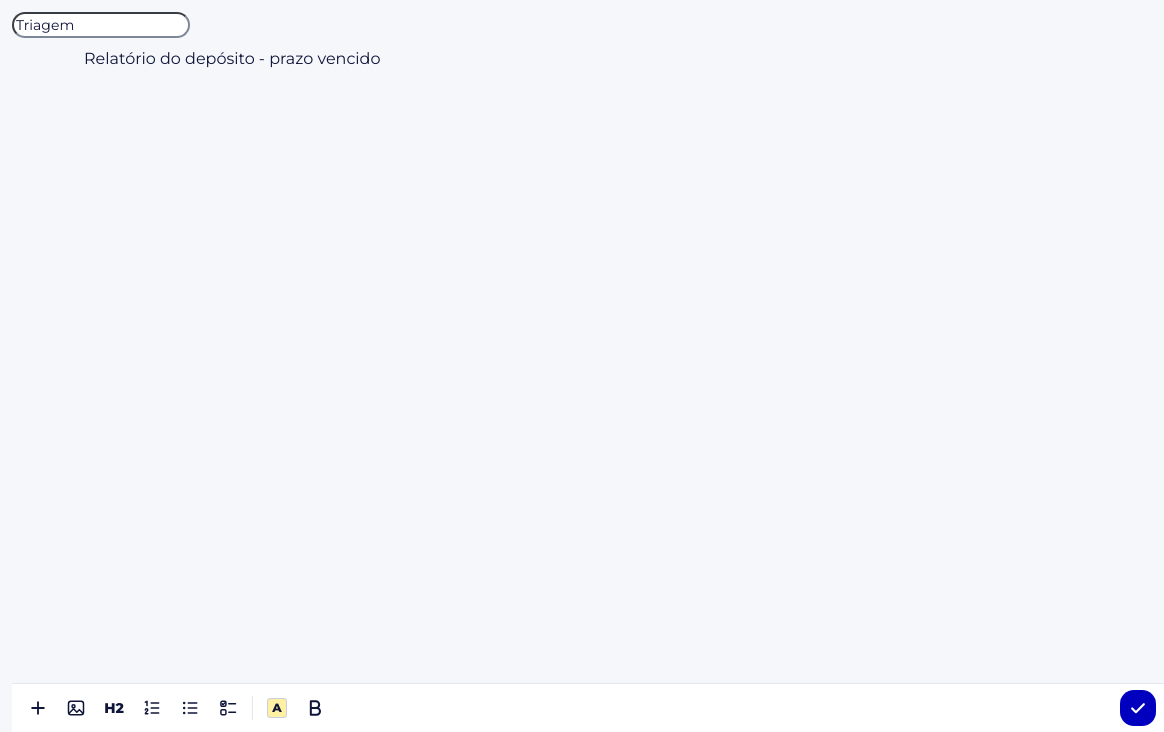
Test case: Concluir tira o foco do editor e a barra sai
Click the button named "Concluir edição" at (1138, 708), box [1120,690,1156,726]
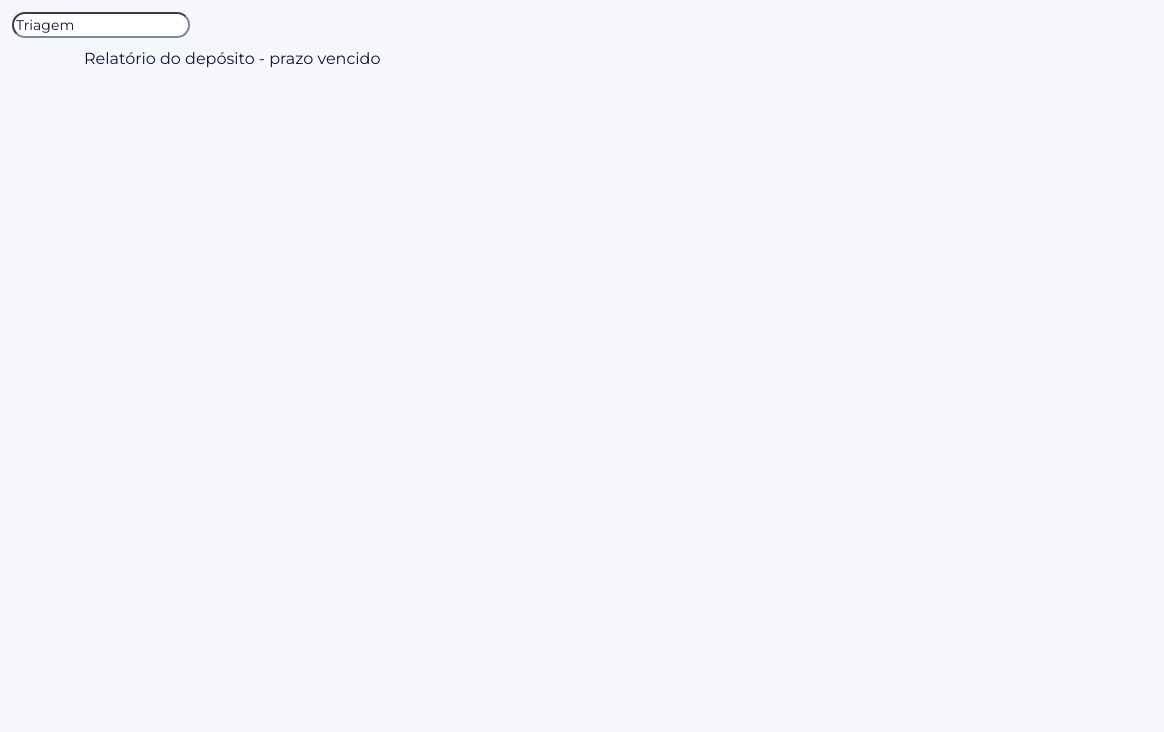
Now the element "Formatação" is gone
